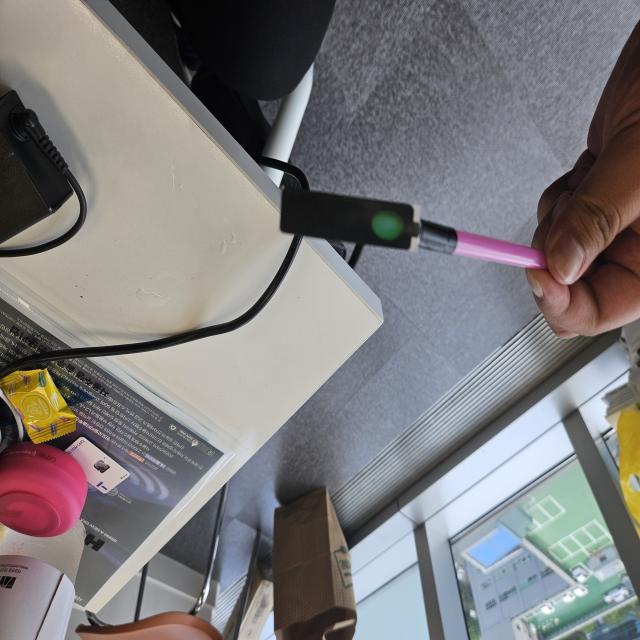traffic light: (280, 188, 424, 253)
